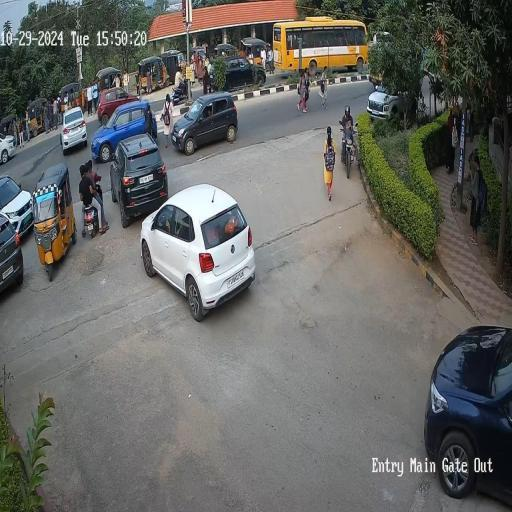helmet: (339, 100, 364, 143)
triple riding: (74, 153, 106, 226)
